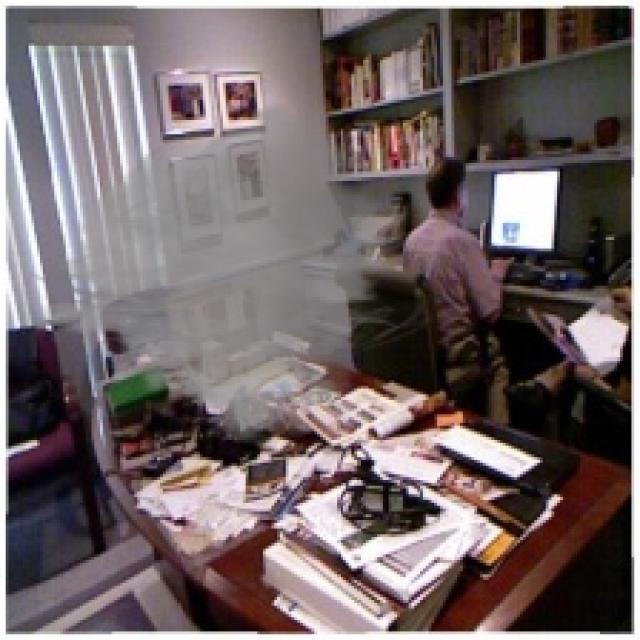Smoke: (23, 103, 443, 446)
